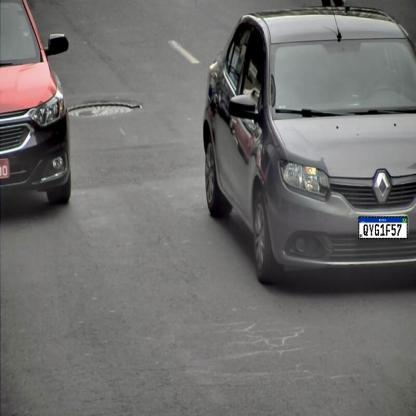PlacaM: (358, 217, 408, 240)
